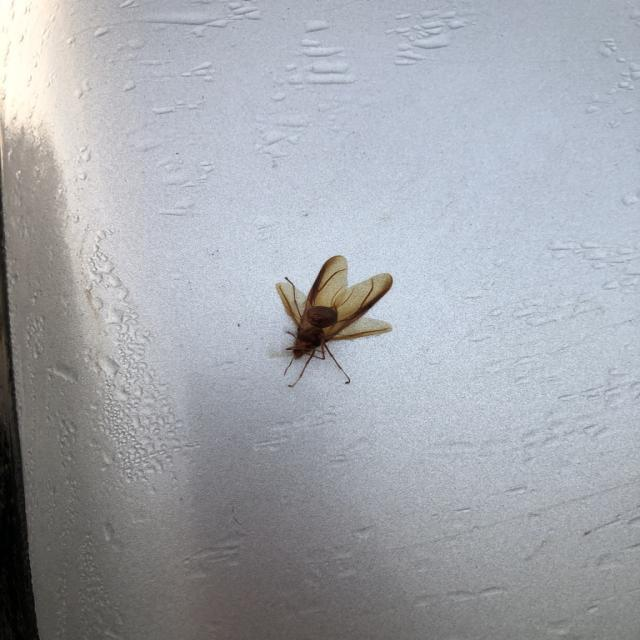Dead-Male-Alate: (275, 255, 393, 387)
